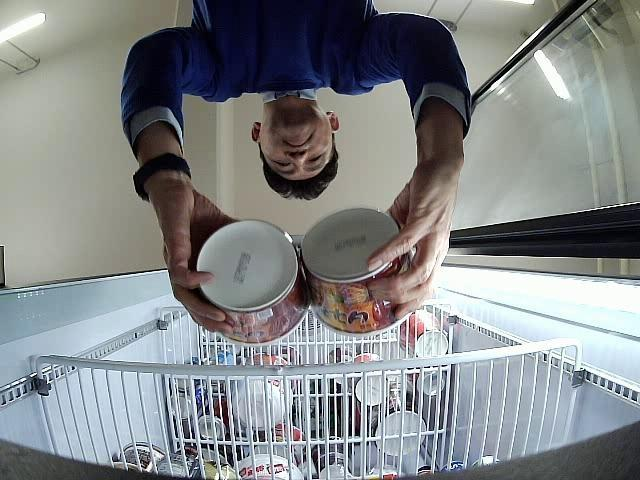05_nuguri_L: (197, 219, 312, 345), (302, 207, 413, 337)
